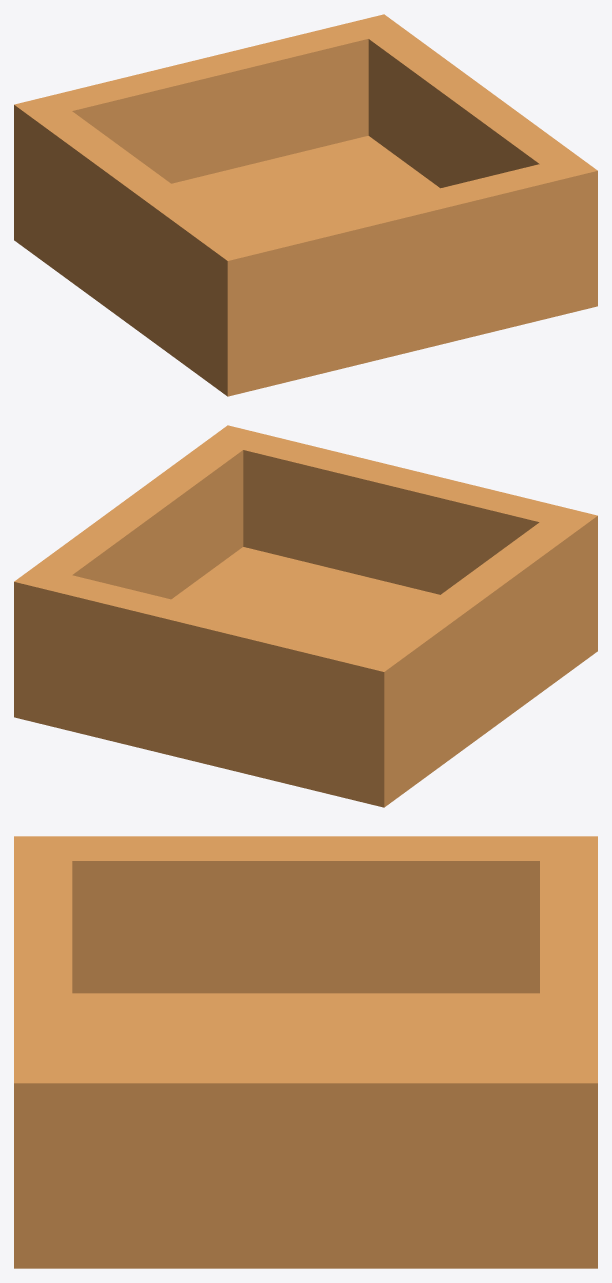
The model's file is YellowRoof_4Edges_Small.glb.
The picture shows the model from 3 angles, top to bottom: view 1: azimuth 30°, elevation 25°; view 2: azimuth 150°, elevation 25°; view 3: azimuth 270°, elevation 25°; orthographic projection. The views are drawn at different scales.
Visible parts, largest first — view 1: roof_flat_4Edges_small_yellow; view 2: roof_flat_4Edges_small_yellow; view 3: roof_flat_4Edges_small_yellow.
Part boxes in pixels (x1,y1,x2,y2): roof_flat_4Edges_small_yellow: (14, 14, 597, 396); roof_flat_4Edges_small_yellow: (14, 425, 597, 807); roof_flat_4Edges_small_yellow: (14, 836, 597, 1268).
Size of what is drawn, in the model's own units: 2 by 0.7 by 2.
1 material, 1 textured.
